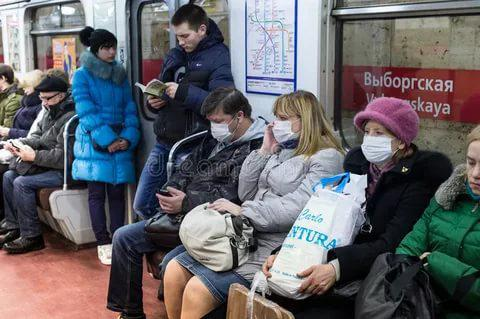mask: (361, 118, 398, 163), (271, 103, 299, 144), (207, 106, 236, 141)
none: (465, 133, 480, 198), (175, 17, 201, 51), (40, 85, 62, 109), (100, 39, 119, 63)
